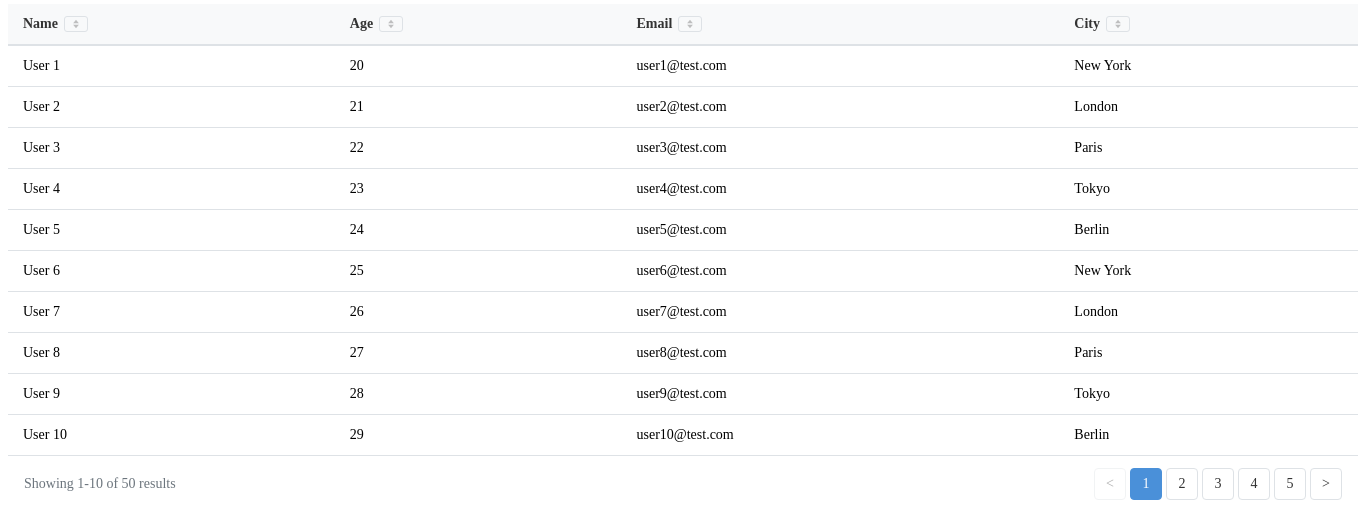
Scenario: Table Component › Pagination › navigates between pages
Go to page 2
Click the button named "Page 2".
click(1182, 484)  # box x1=1166 y1=468 x2=1198 y2=500
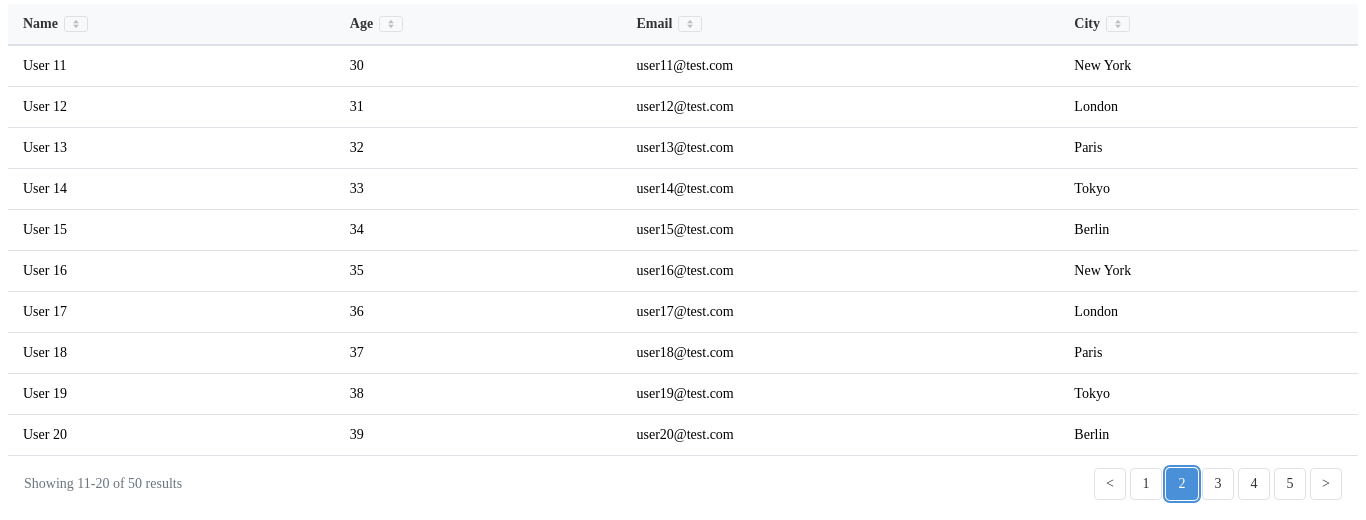
Result: the text "Showing 11-20 of 50 results" is shown at x1=24 y1=476 x2=182 y2=492
